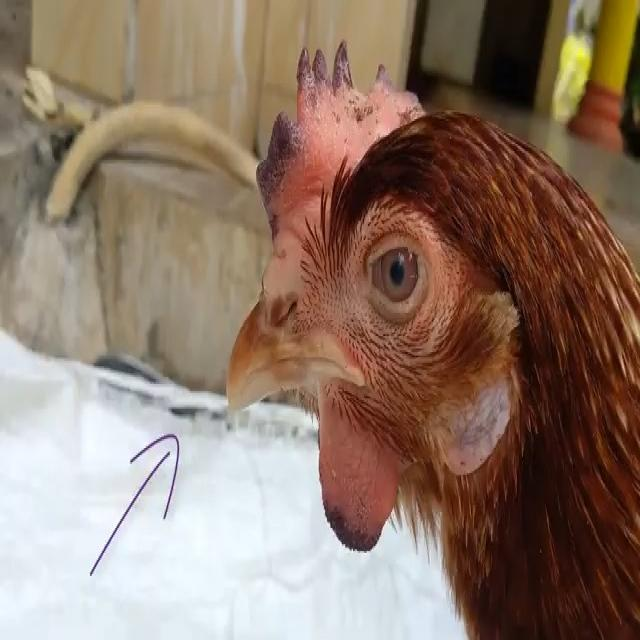bird flu: (226, 37, 640, 640)
